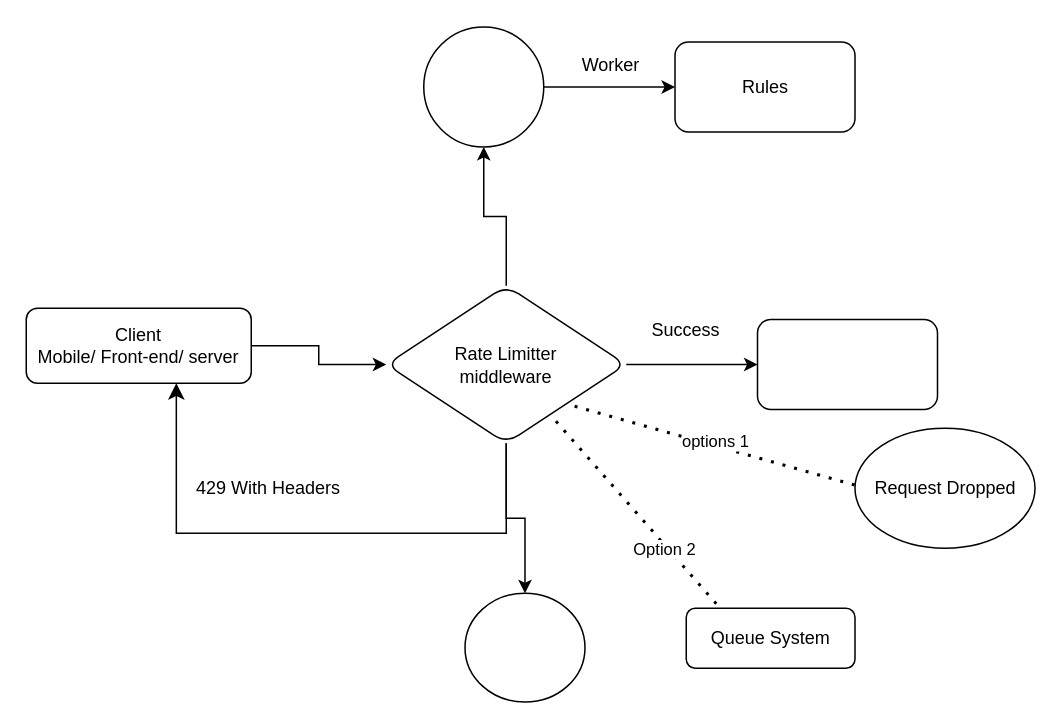
Image size: 1062x728. Some labels were removed from this diagram. Each missing label, with the centre of its shape:
API SERVER: (x=847, y=364)
Cache Rules: (x=483, y=86)
Redis For counter and bucket size: (x=524, y=647)
